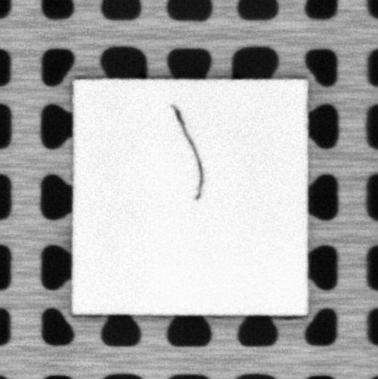DIE_INK: (171, 103, 204, 201)
